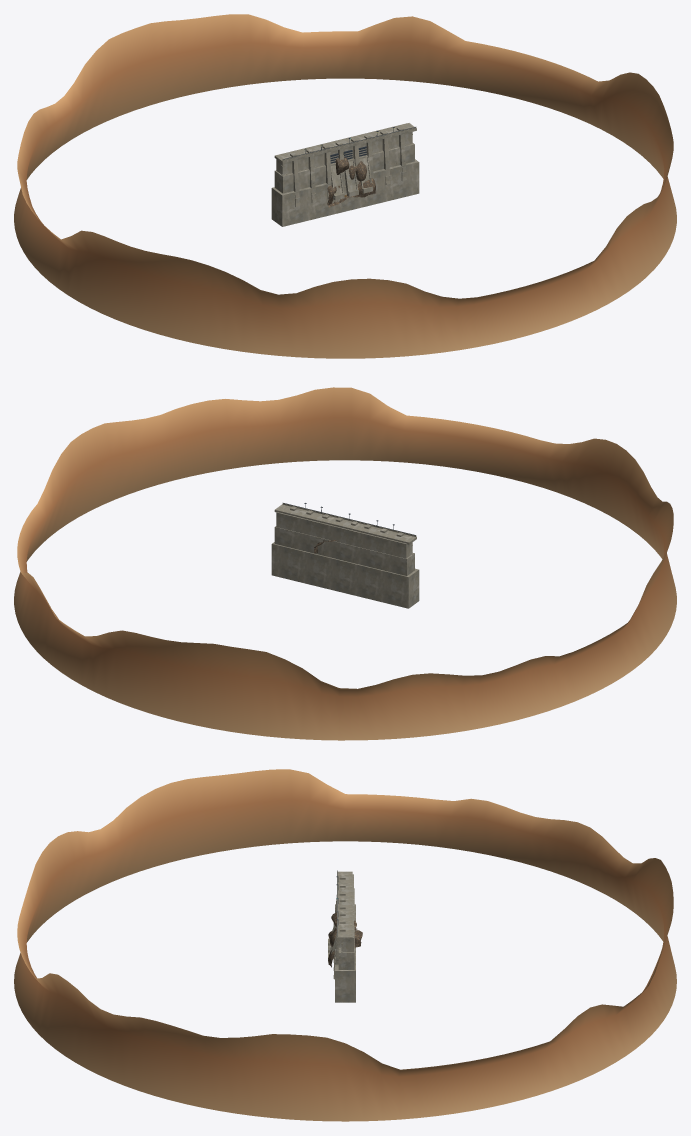
File: v090_ahsarah_architecture.glb
3 renders of one model, top to bottom at view 1: azimuth 30°, elevation 25°; view 2: azimuth 150°, elevation 25°; view 3: azimuth 270°, elevation 25°, orthographic.
Parts seen in each view (by area): view 1: desert_mesa_ring, zero_dam_wall_monolith, desert_cliff_abutment; view 2: desert_mesa_ring, zero_dam_wall_monolith; view 3: desert_mesa_ring, zero_dam_wall_monolith.
Part boxes in pixels (x1,y1,x2,y2): desert_mesa_ring: (14,14,676,358); zero_dam_wall_monolith: (271,123,419,226); desert_cliff_abutment: (327,157,375,207); desert_mesa_ring: (14,387,676,740); zero_dam_wall_monolith: (271,503,419,608); desert_mesa_ring: (14,769,676,1121); zero_dam_wall_monolith: (328,870,355,1002).
Size of the model in its own units: 495 by 69 by 495.
Materials: 33 (16 with a texture image).
